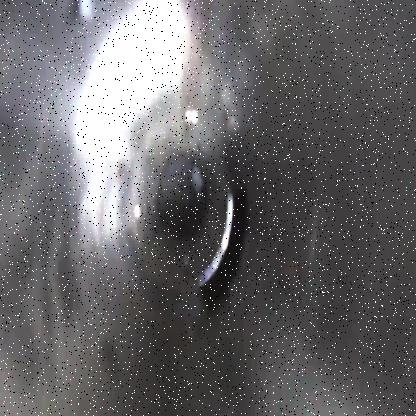Crack2: (196, 183, 256, 321)
